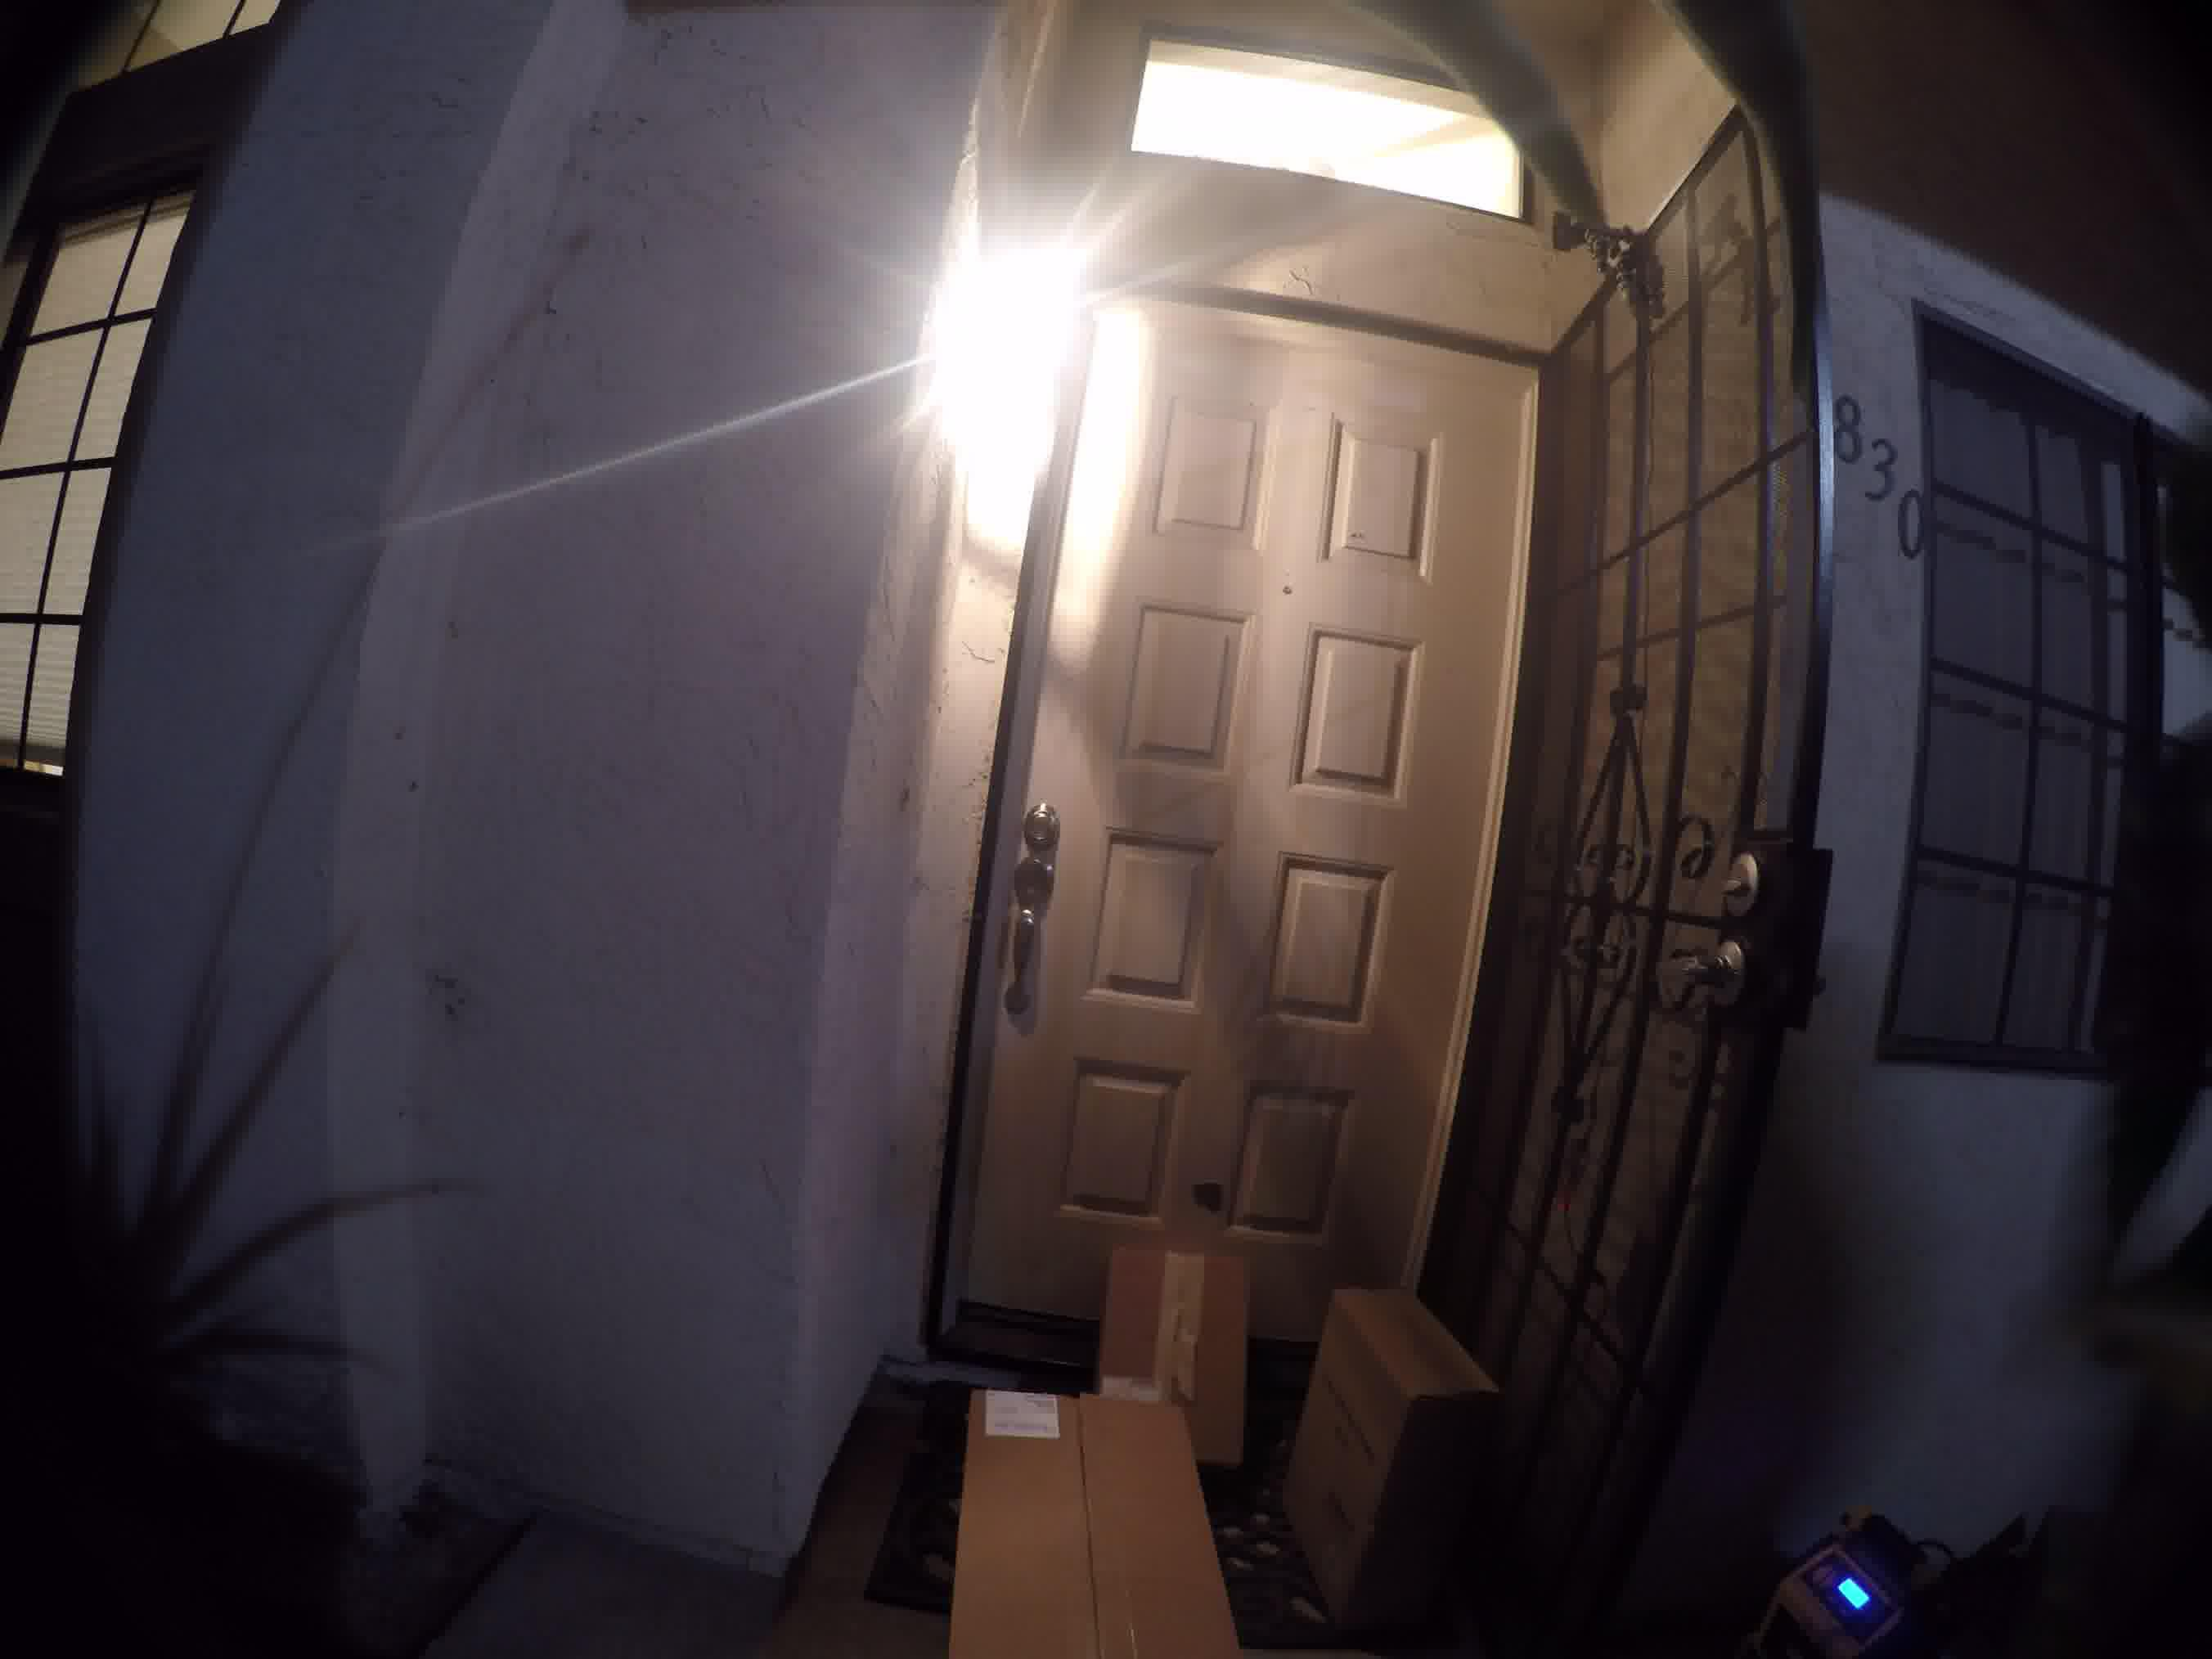box: (967, 1373, 1219, 1652), (1313, 1253, 1508, 1579), (1103, 1227, 1271, 1370)
